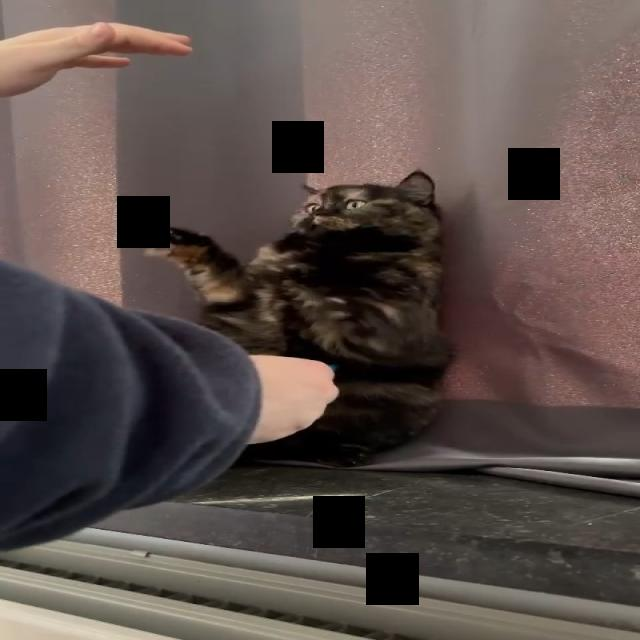authorized: (139, 168, 457, 468)
